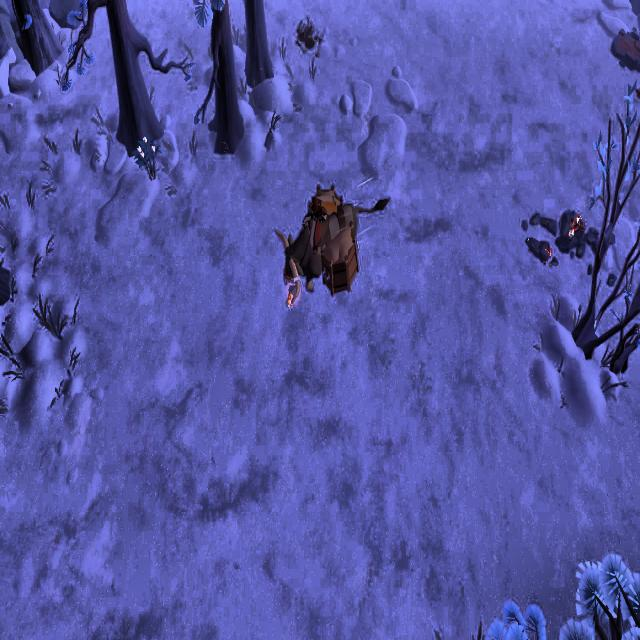fiber_t4: (134, 132, 163, 178)
